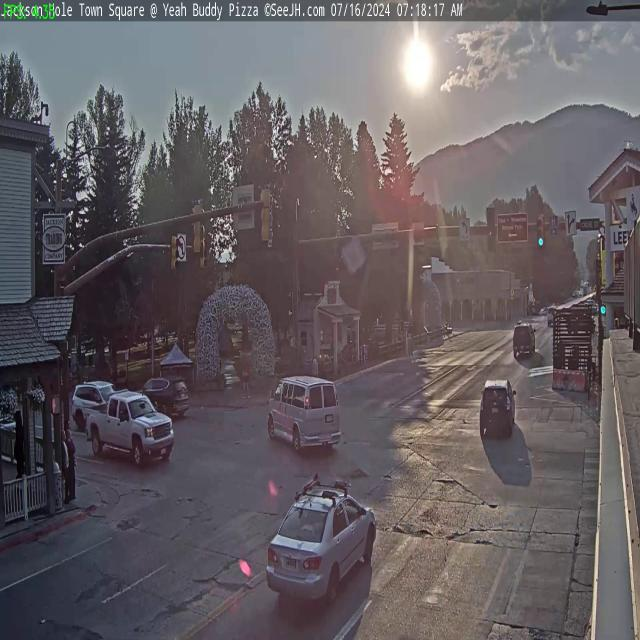person: (62, 420, 75, 501), (59, 432, 70, 503), (242, 359, 250, 397)
pickup: (93, 390, 175, 470), (512, 320, 536, 356)
suv: (265, 478, 377, 621), (479, 375, 515, 440), (141, 376, 189, 421)
traffic light: (260, 184, 273, 244), (190, 199, 204, 254), (486, 207, 496, 252), (172, 232, 180, 275), (536, 214, 546, 248)
van: (266, 374, 342, 456)
